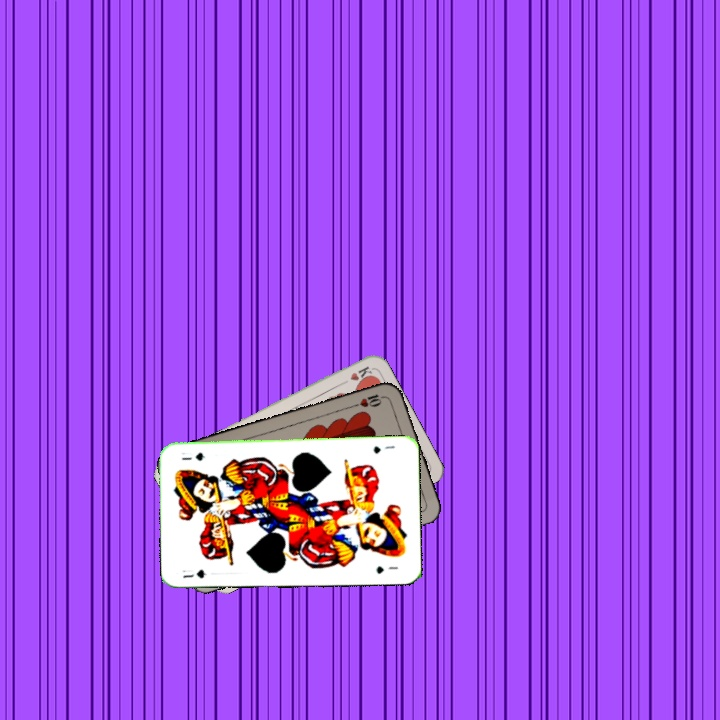GU: (178, 566, 208, 581), (370, 442, 397, 456)
H10: (349, 390, 389, 410)
HK: (335, 362, 374, 389)
